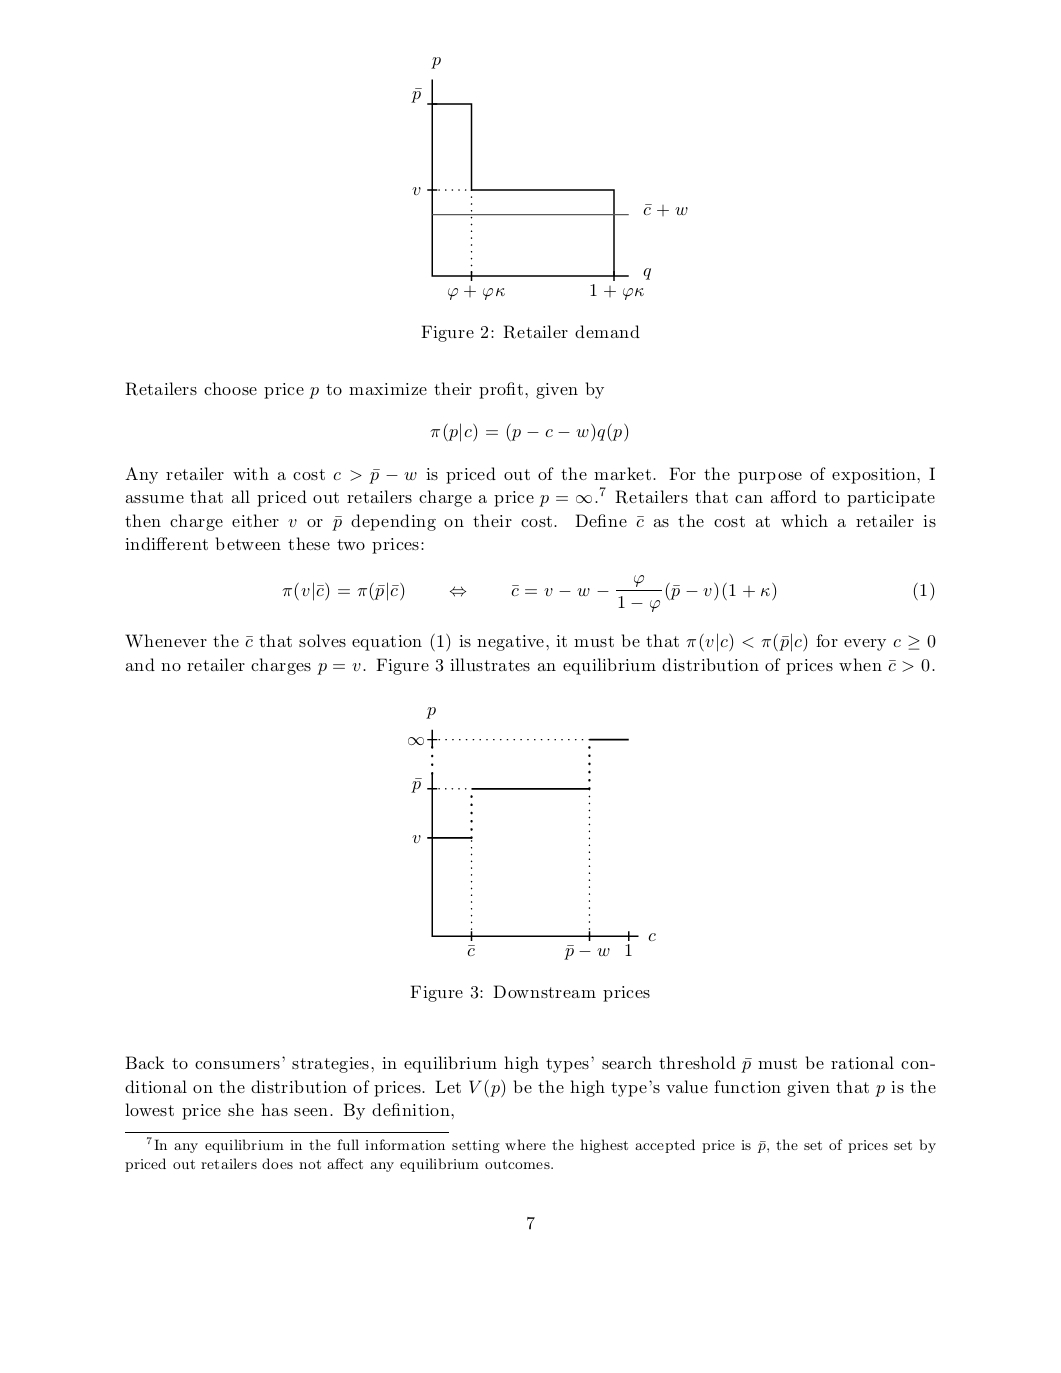figure: (411, 57, 687, 299), (408, 707, 655, 960)
formula: (282, 574, 934, 612), (430, 422, 627, 442)
